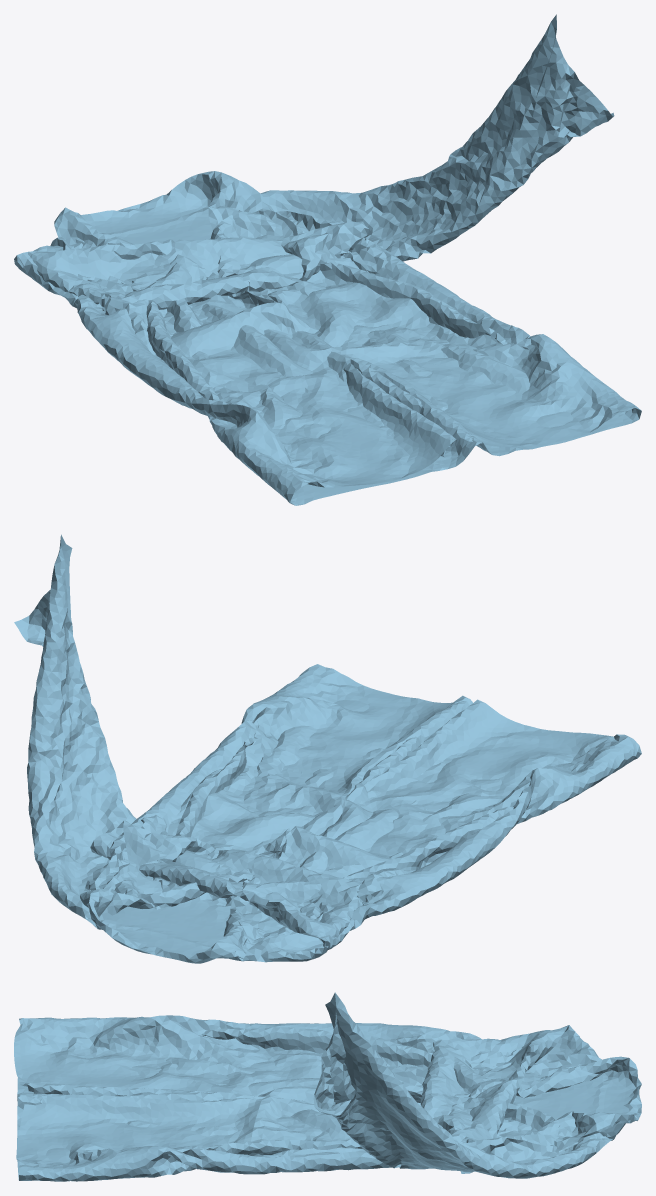
File: frame_06.glb
The picture shows the model from 3 angles, top to bottom: view 1: azimuth 30°, elevation 25°; view 2: azimuth 150°, elevation 25°; view 3: azimuth 270°, elevation 25°; orthographic projection. The views are drawn at different scales.
Visible parts, largest first — view 1: frame_06.obj; view 2: frame_06.obj; view 3: frame_06.obj.
Part boxes in pixels (x1,y1,x2,y2): frame_06.obj: [14, 14, 641, 505]; frame_06.obj: [14, 534, 641, 963]; frame_06.obj: [14, 992, 641, 1181].
Size of the model in its own units: 1.35 by 0.677 by 1.65.
